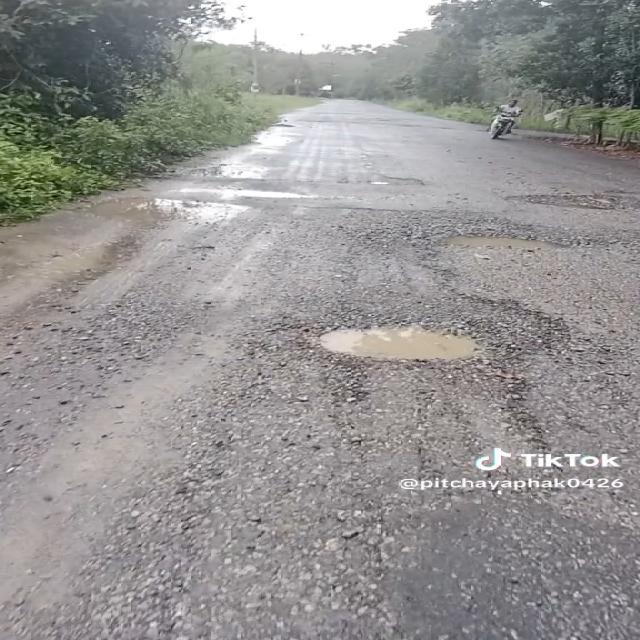Poth-hole: (187, 169, 346, 216)
